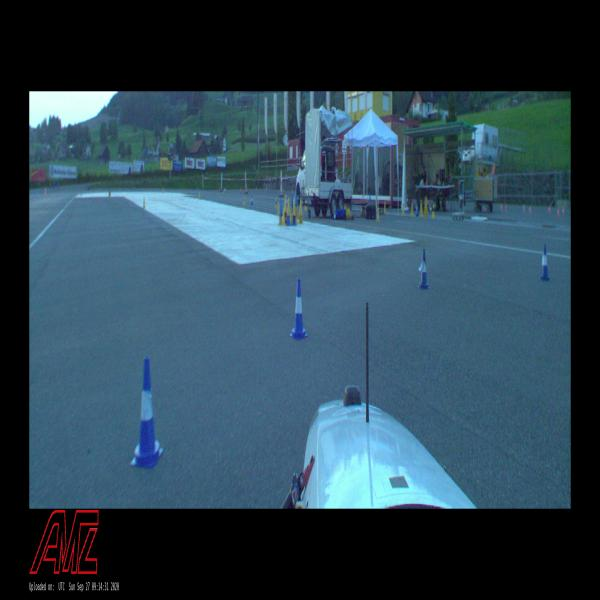blue_cone: (130, 356, 164, 470), (290, 278, 308, 338), (418, 249, 430, 290), (540, 243, 550, 282), (294, 187, 298, 207), (279, 197, 282, 215), (416, 202, 418, 217), (251, 194, 253, 205)
yellow_cone: (282, 208, 286, 226), (292, 197, 296, 215), (287, 197, 290, 215), (284, 194, 287, 212), (299, 197, 302, 214), (274, 197, 278, 209), (432, 204, 435, 219), (410, 202, 413, 217), (383, 199, 386, 214), (143, 195, 146, 209), (277, 198, 279, 217), (402, 201, 404, 216), (243, 195, 246, 205)
